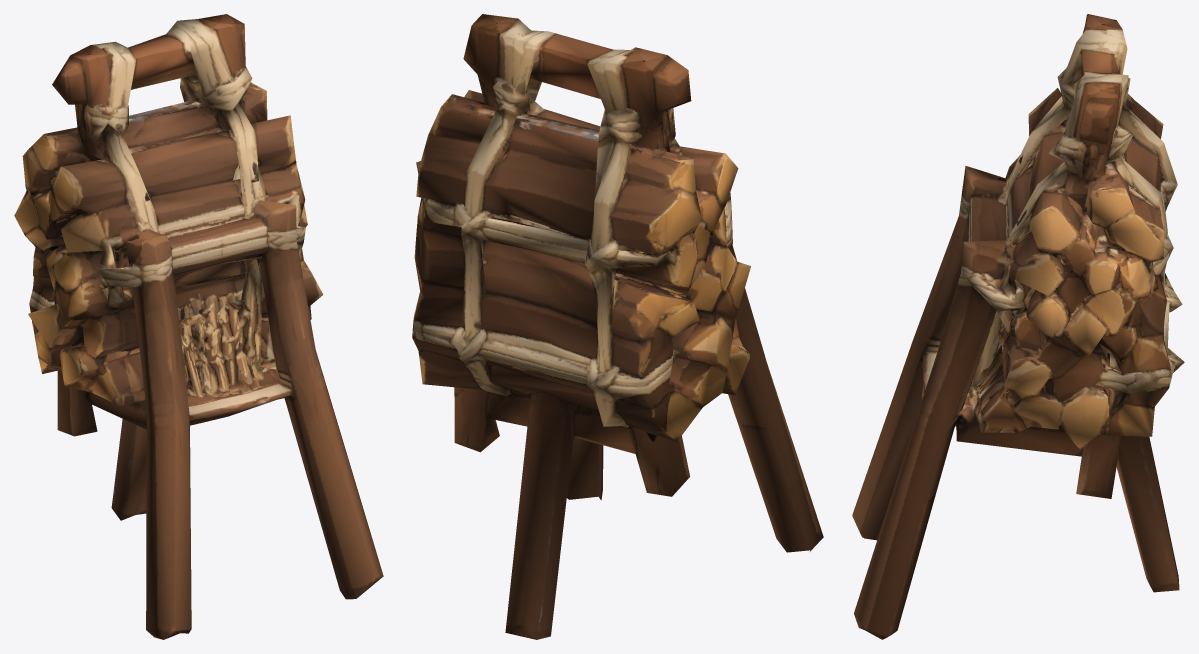
File: jige.glb
3 renders of one model, left to right at view 1: azimuth 30°, elevation 25°; view 2: azimuth 150°, elevation 25°; view 3: azimuth 270°, elevation 25°, orthographic. The views are drawn at different scales.
Visible parts, largest first — view 1: low; view 2: low; view 3: low.
Boxes of the visible parts, box(x1,y1,x2,y2) form: low: box(14, 14, 383, 639); low: box(412, 14, 823, 639); low: box(852, 14, 1184, 639).
Size of the model in its own units: 0.5325 by 0.9913 by 0.5615.
Materials: 1 (1 with a texture image).
